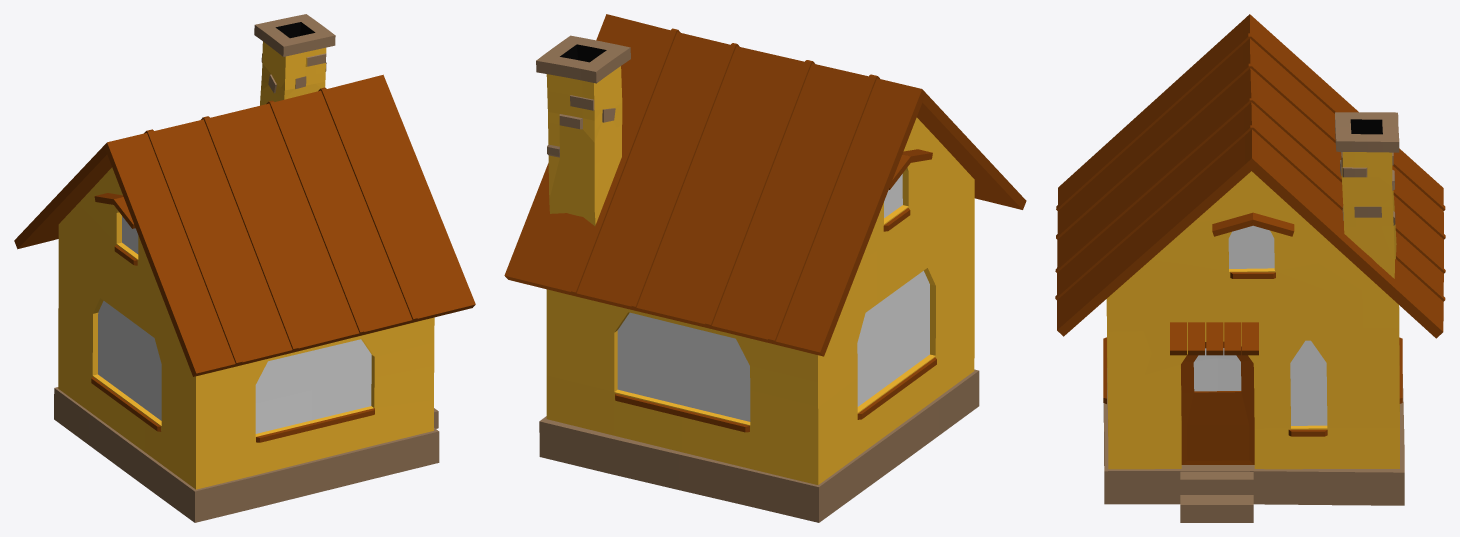
Rendered from mokki2.0.fbx.
3 renders of one model, left to right at view 1: azimuth 30°, elevation 25°; view 2: azimuth 150°, elevation 25°; view 3: azimuth 270°, elevation 25°, orthographic. The views are drawn at different scales.
Parts seen in each view (by area): view 1: bottom; view 2: bottom; view 3: bottom.
Part boxes in pixels (x1,y1,x2,y2): bottom: (14, 14, 475, 522); bottom: (504, 14, 1026, 522); bottom: (1055, 14, 1445, 522).
Size of the model in its own units: 3983 by 4422 by 4236.
